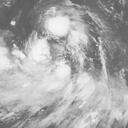cyclone: (37, 4, 78, 42)
